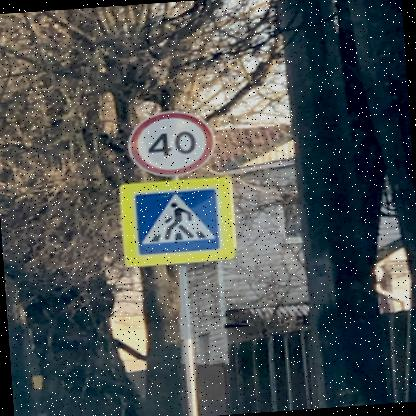crosswalk: (130, 186, 218, 256)
speedlimit: (125, 109, 214, 179)
